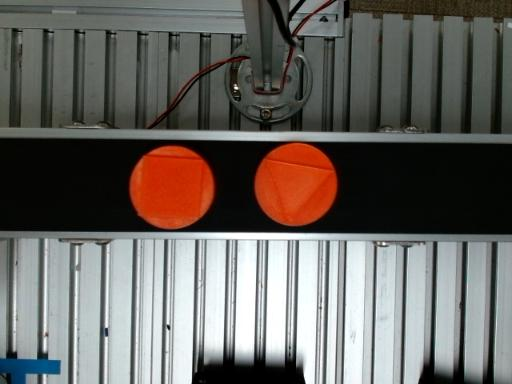Not_Square: (264, 159, 333, 226)
Orange_Waper: (254, 143, 340, 226), (130, 146, 215, 229)
Square: (139, 154, 205, 221)
